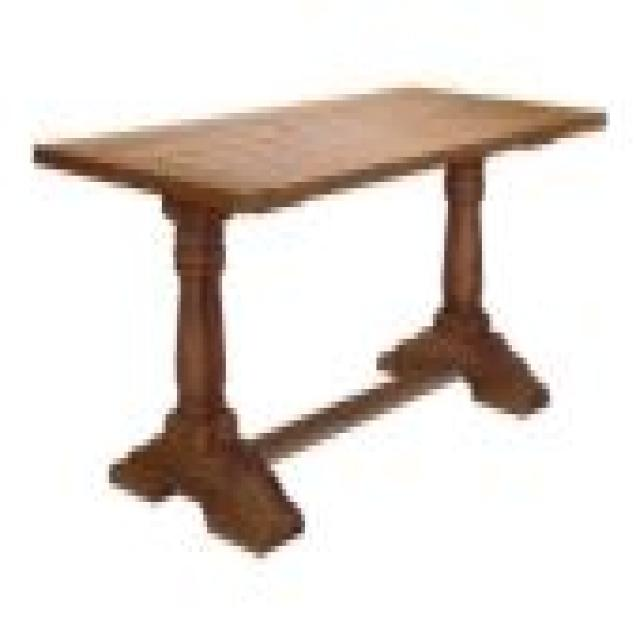table: (29, 76, 608, 563)
